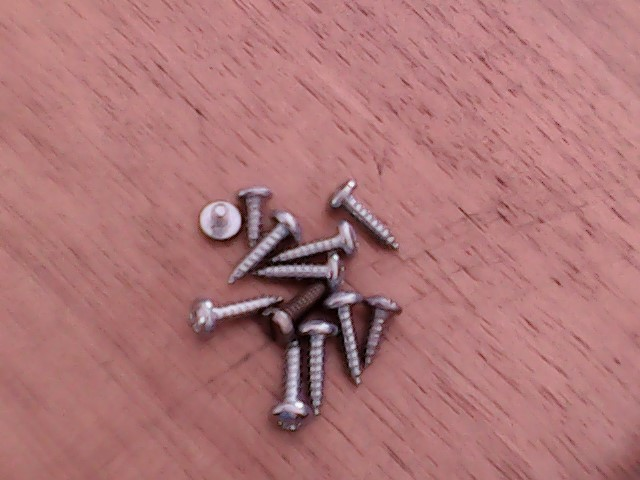Metal: (185, 186, 399, 480)
